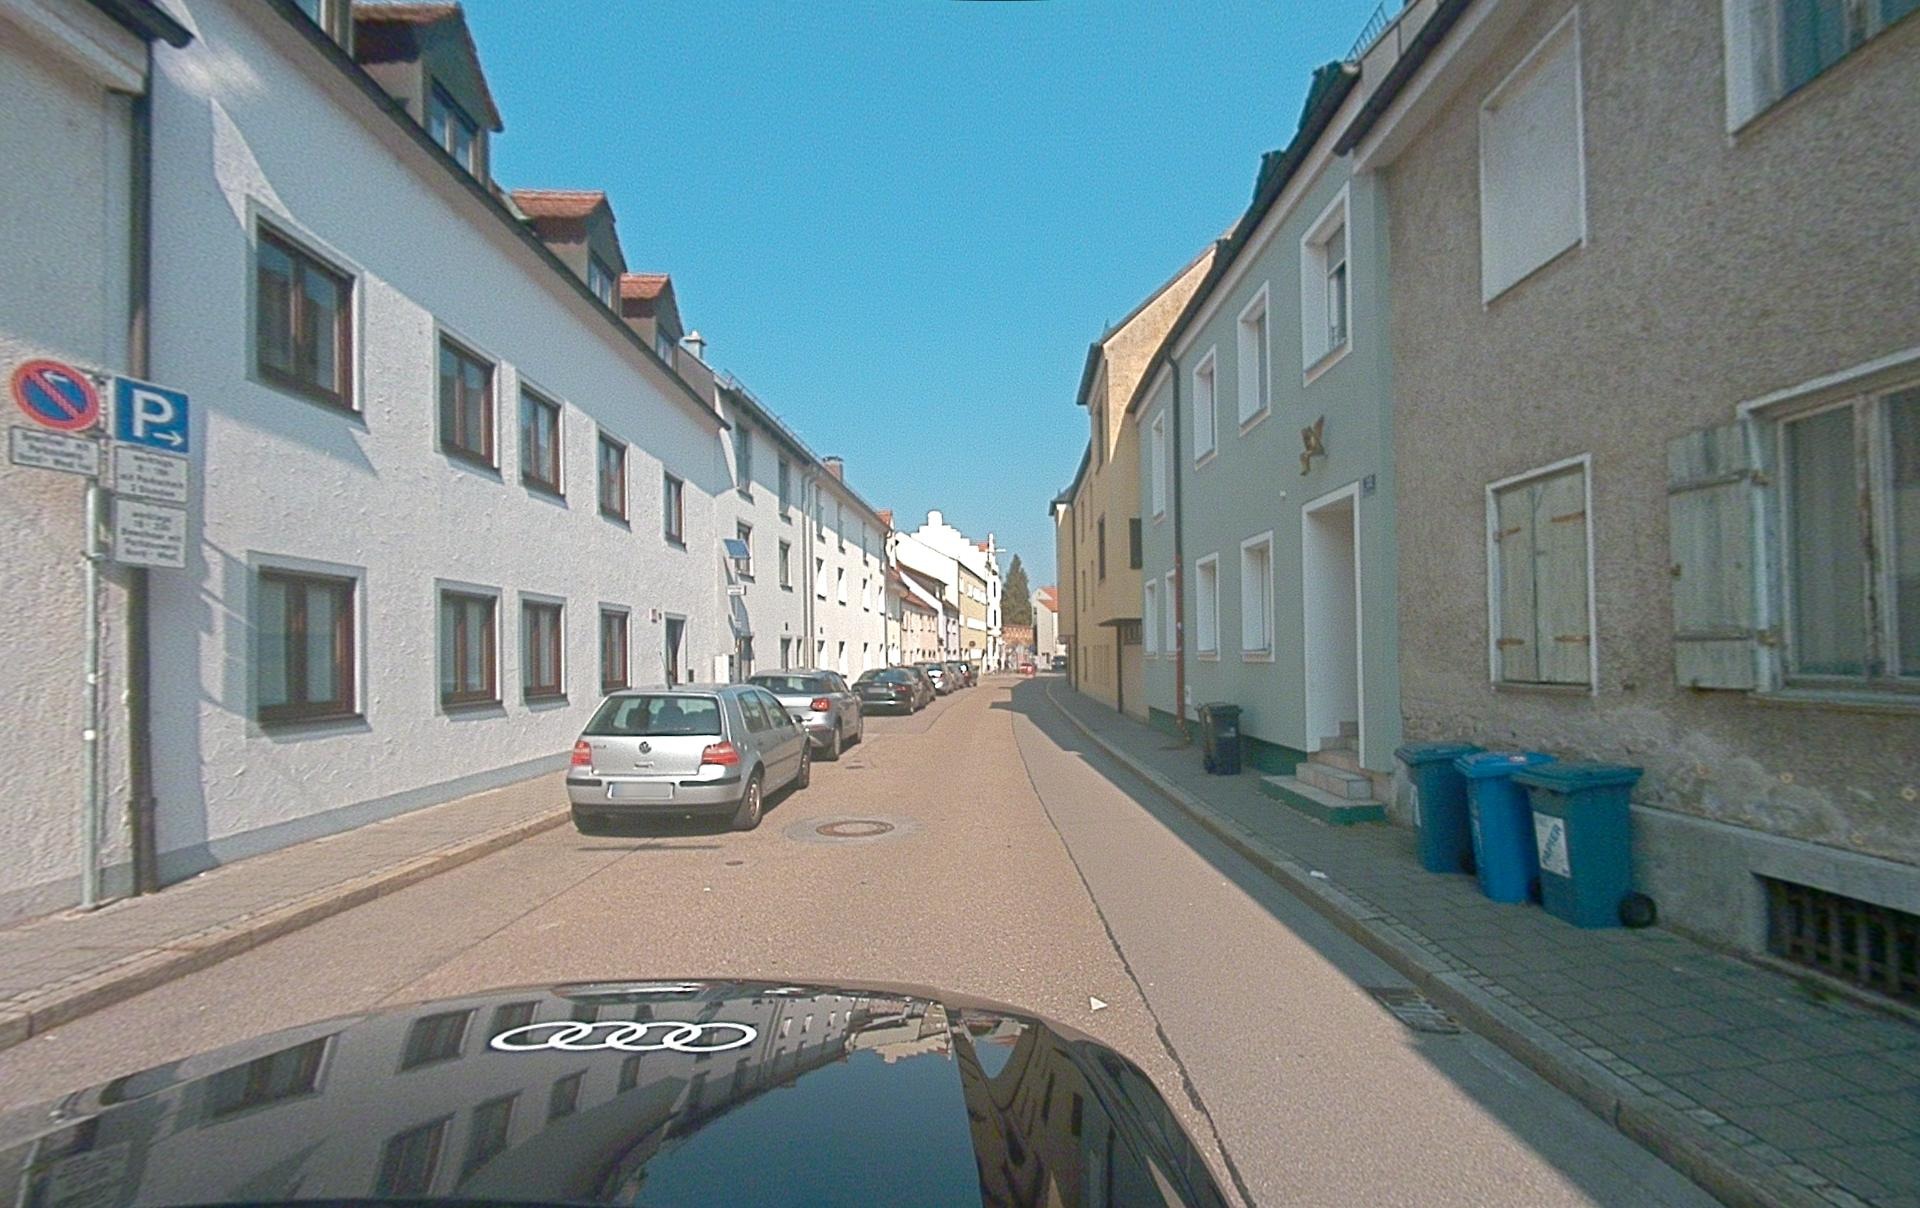car: (1, 976, 1242, 1207), (566, 682, 811, 832), (746, 668, 864, 761), (850, 668, 925, 715), (890, 667, 936, 704), (918, 664, 954, 694), (945, 661, 977, 689)
traffic sign: (111, 374, 191, 456), (8, 424, 100, 479), (111, 444, 189, 504)
